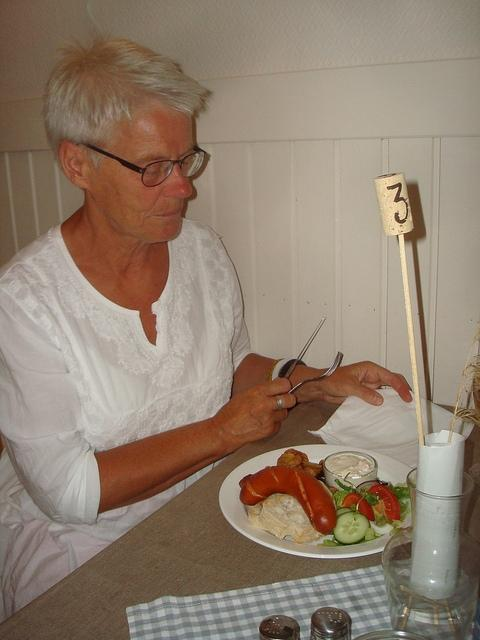cucumber: (333, 512, 371, 546), (336, 507, 355, 517), (364, 528, 374, 541)
